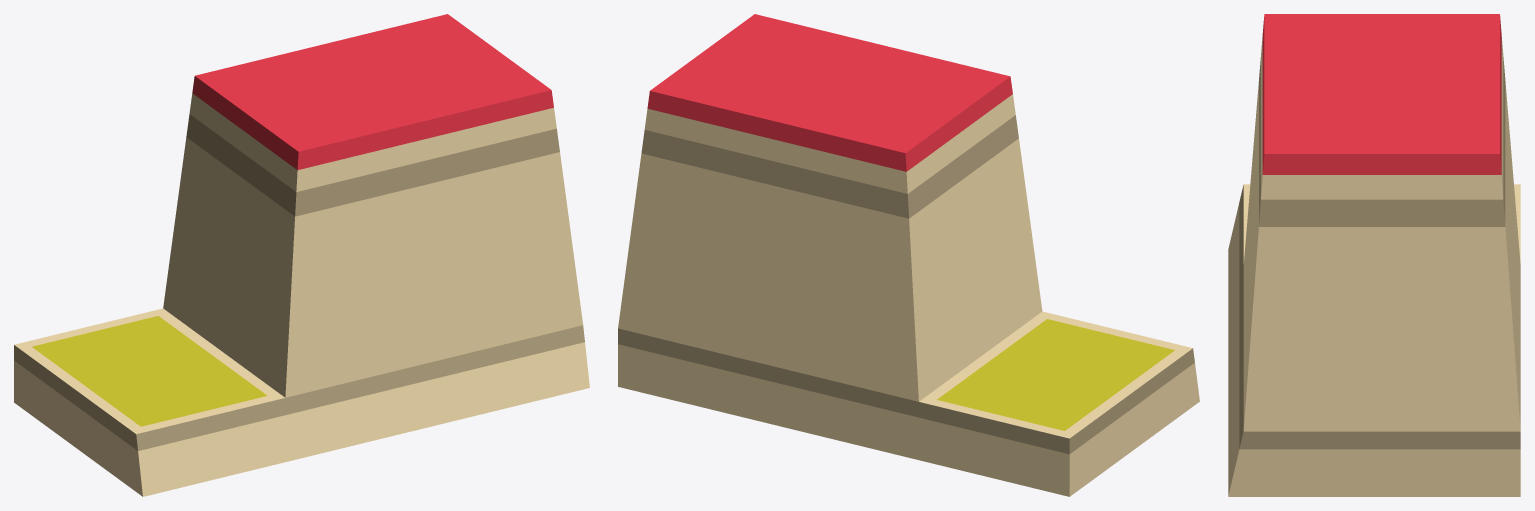
The model's file is House_3.fbx.
The picture shows the model from 3 angles, left to right: view 1: azimuth 30°, elevation 25°; view 2: azimuth 150°, elevation 25°; view 3: azimuth 270°, elevation 25°; orthographic projection. The views are drawn at different scales.
Visible parts, largest first — view 1: House_3; view 2: House_3; view 3: House_3.
Part boxes in pixels (left/top/right/bottom): House_3: left=14, top=14, right=589, bottom=496; House_3: left=618, top=14, right=1199, bottom=496; House_3: left=1228, top=14, right=1520, bottom=496.
Bounding box in the file's own units: 300 × 187 × 150.
